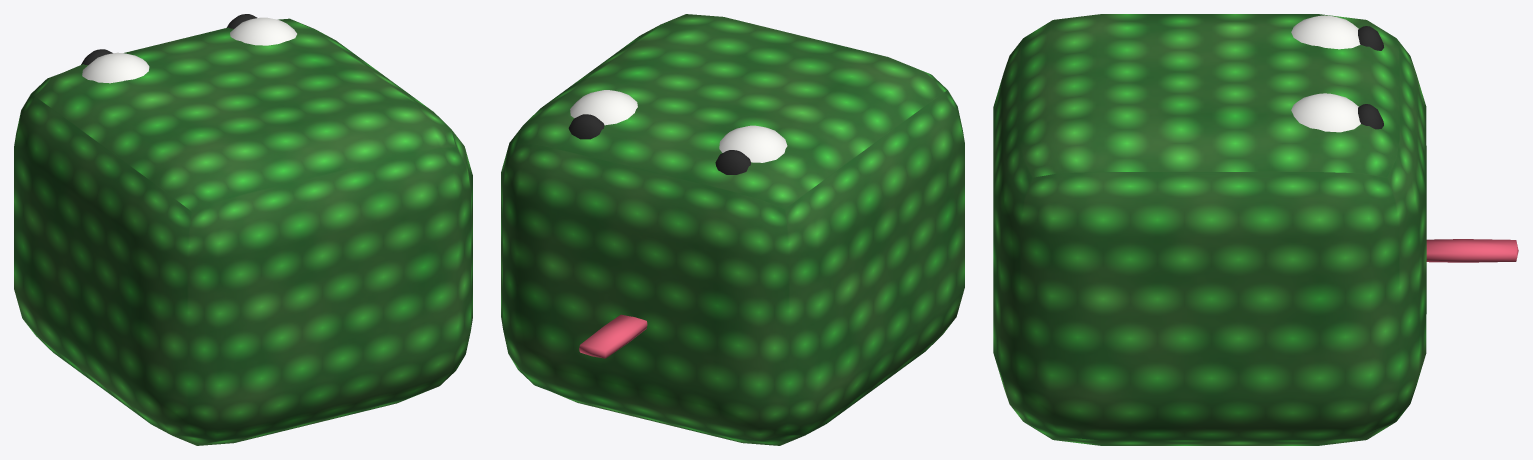
Rendered from SnakeHead.gltf.
3 renders of one model, left to right at view 1: azimuth 30°, elevation 25°; view 2: azimuth 150°, elevation 25°; view 3: azimuth 270°, elevation 25°, orthographic. The views are drawn at different scales.
Parts seen in each view (by area): view 1: SnakeHead; view 2: SnakeHead; view 3: SnakeHead.
Part boxes in pixels (x1,y1,x2,y2): SnakeHead: (14,14,472,445); SnakeHead: (501,14,964,445); SnakeHead: (993,14,1518,445).
Size of the model in its own units: 0.9 by 0.79 by 1.14.
4 materials, 1 textured.
